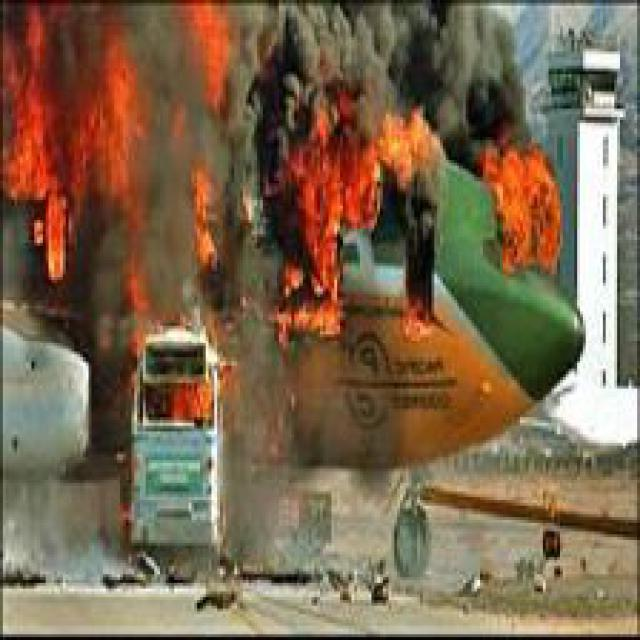fire: (3, 6, 240, 303), (174, 94, 443, 326), (474, 134, 574, 283)
